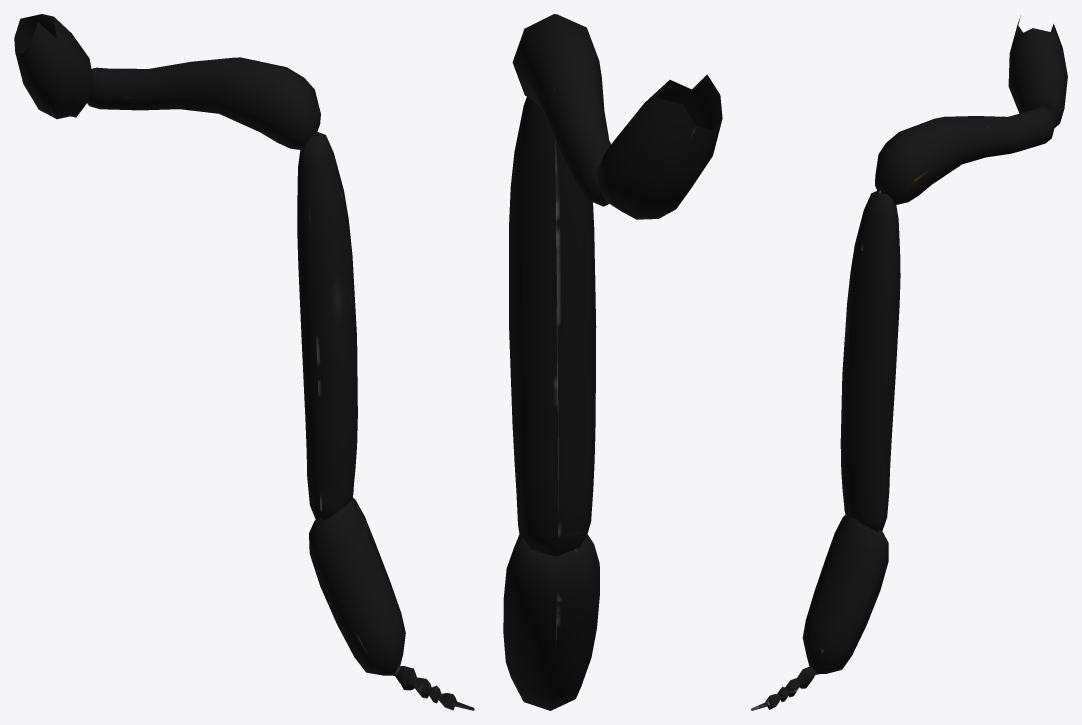
The model's file is WaspLeg.fbx.
The picture shows the model from 3 angles, left to right: view 1: azimuth 30°, elevation 25°; view 2: azimuth 150°, elevation 25°; view 3: azimuth 270°, elevation 25°; orthographic projection. The views are drawn at different scales.
Parts seen in each view (by area): view 1: insect; view 2: insect; view 3: insect.
Part boxes in pixels (bbox=[...]): insect: bbox=[14, 14, 474, 710]; insect: bbox=[503, 14, 722, 710]; insect: bbox=[751, 15, 1067, 710].
Size of the model in its own units: 133 by 277 by 138.
